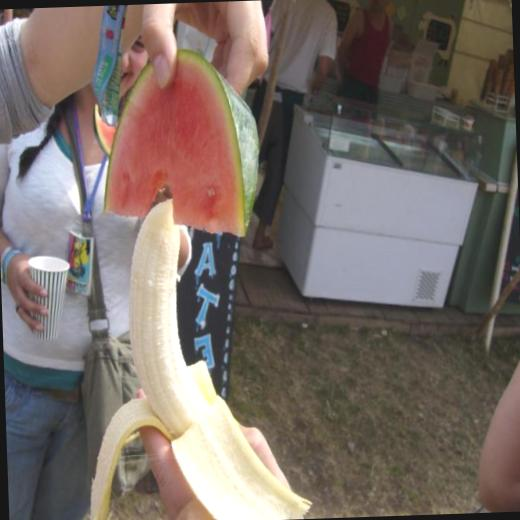Cherry: (95, 45, 263, 242)
